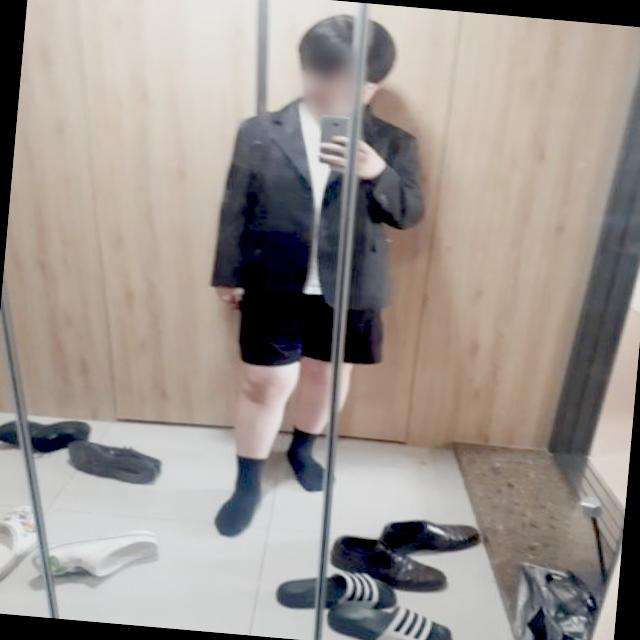blazer: (209, 93, 436, 320)
shortpants: (228, 272, 388, 376)
